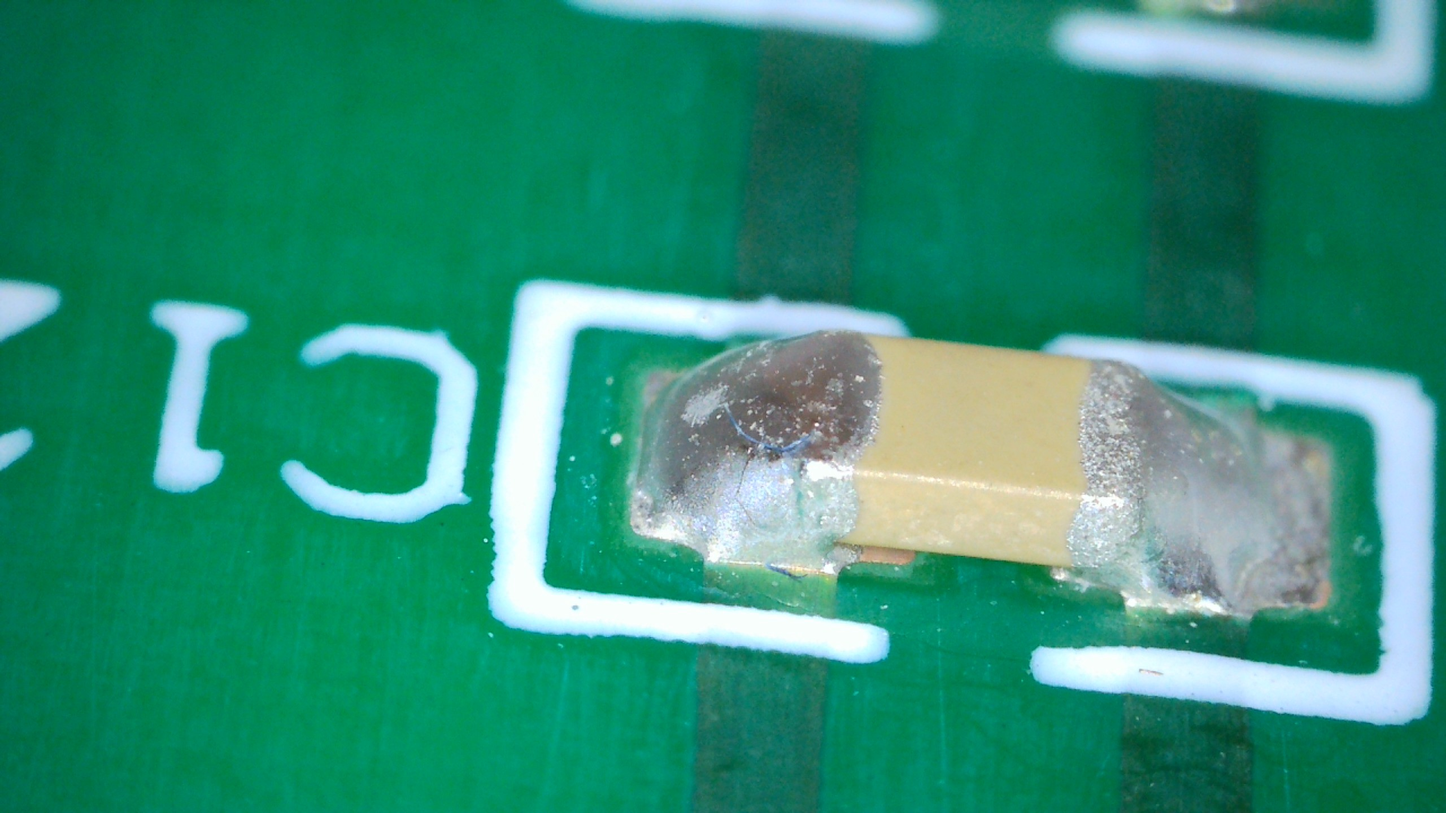NG: (637, 330, 876, 568)
OK: (1084, 359, 1320, 615)
